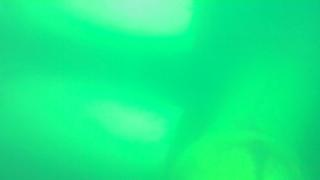pipe: (175, 56, 320, 179), (1, 81, 185, 167), (1, 1, 208, 55)
